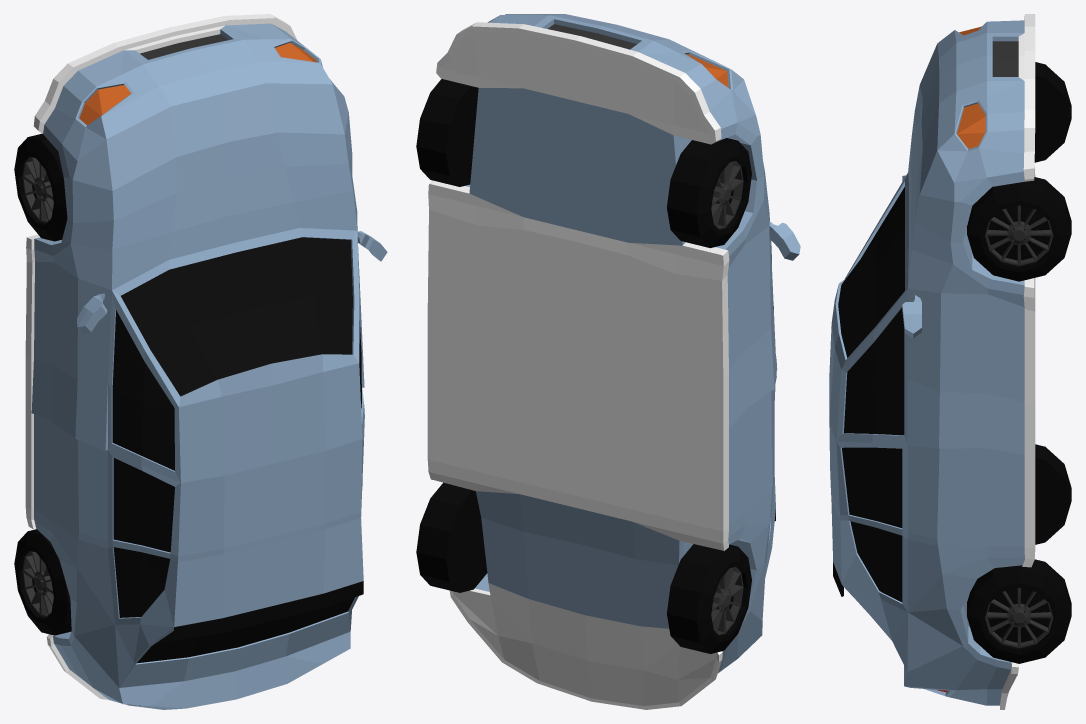
Rendered from NormalCar2.glb.
3 views of the same model, side by side, from view 1: azimuth 30°, elevation 25°; view 2: azimuth 150°, elevation 25°; view 3: azimuth 270°, elevation 25° (orthographic). The views are drawn at different scales.
Parts seen in each view (by area): view 1: NormalCar2, NormalCar2_BackWheels, NormalCar2_FrontLeftWheel; view 2: NormalCar2, NormalCar2_BackWheels, NormalCar2_FrontLeftWheel, NormalCar2_FrontRightWheel; view 3: NormalCar2, NormalCar2_BackWheels, NormalCar2_FrontRightWheel, NormalCar2_FrontLeftWheel.
Part boxes in pixels (<box>): NormalCar2: <box>25,14,387,709</box>; NormalCar2_BackWheels: <box>14,529,71,635</box>; NormalCar2_FrontLeftWheel: <box>14,133,67,241</box>; NormalCar2: <box>427,14,800,709</box>; NormalCar2_BackWheels: <box>416,482,751,653</box>; NormalCar2_FrontLeftWheel: <box>667,138,751,248</box>; NormalCar2_FrontRightWheel: <box>416,79,478,186</box>; NormalCar2: <box>829,14,1035,709</box>; NormalCar2_BackWheels: <box>967,444,1071,663</box>; NormalCar2_FrontRightWheel: <box>967,177,1071,281</box>; NormalCar2_FrontLeftWheel: <box>1034,62,1071,162</box>.
Size of the model in its own units: 164 by 331 by 115.
